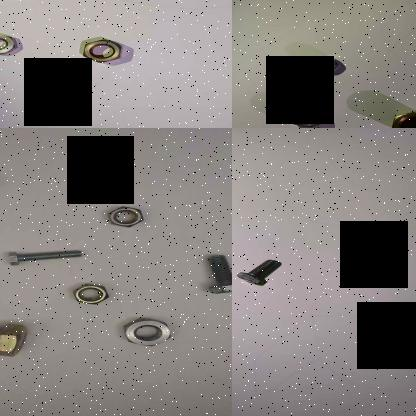Bolts: (3, 244, 87, 267), (232, 253, 287, 286), (0, 315, 40, 360), (200, 250, 232, 296)
NUTS: (119, 314, 177, 350), (102, 202, 152, 229), (70, 277, 112, 307), (78, 38, 126, 64), (287, 104, 329, 128), (308, 54, 342, 72), (388, 109, 416, 128), (0, 32, 20, 56)
